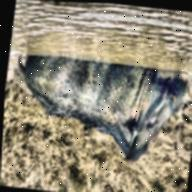boar: (21, 44, 192, 187)
